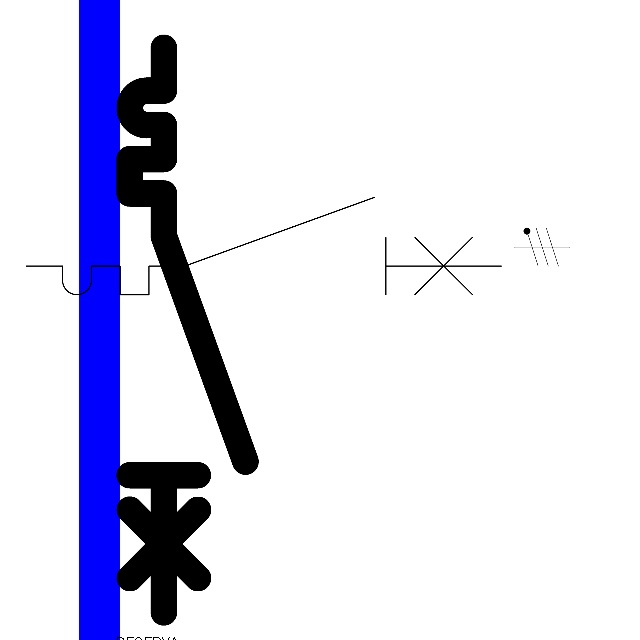interruptor_termomagnetico: (115, 33, 260, 627), (14, 185, 513, 307)
